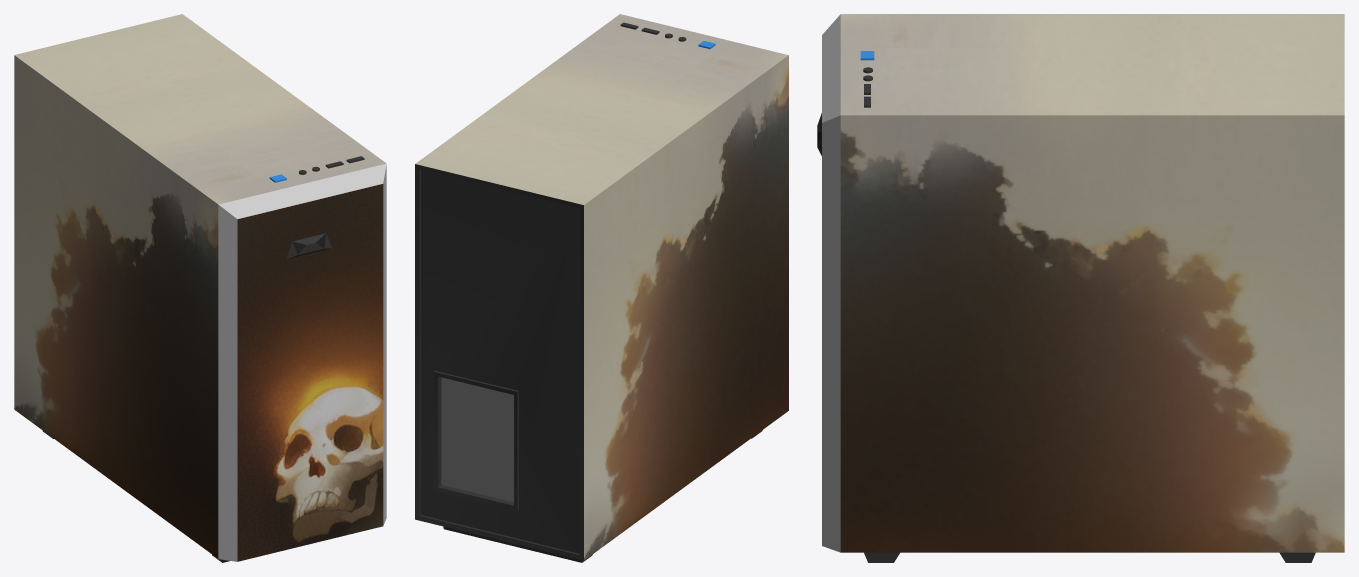
File: PC_Case_3.obj
3 views of the same model, side by side, from view 1: azimuth 30°, elevation 25°; view 2: azimuth 150°, elevation 25°; view 3: azimuth 270°, elevation 25° (orthographic). The views are drawn at different scales.
Visible parts, largest first — view 1: PC_Case_3; view 2: PC_Case_3; view 3: PC_Case_3.
Boxes of the visible parts, x1,y1,x2,y2 form: PC_Case_3: (14, 14, 386, 562); PC_Case_3: (415, 14, 788, 562); PC_Case_3: (817, 14, 1344, 562).
Size of the model in its own units: 0.227 by 0.4792 by 0.4995.
